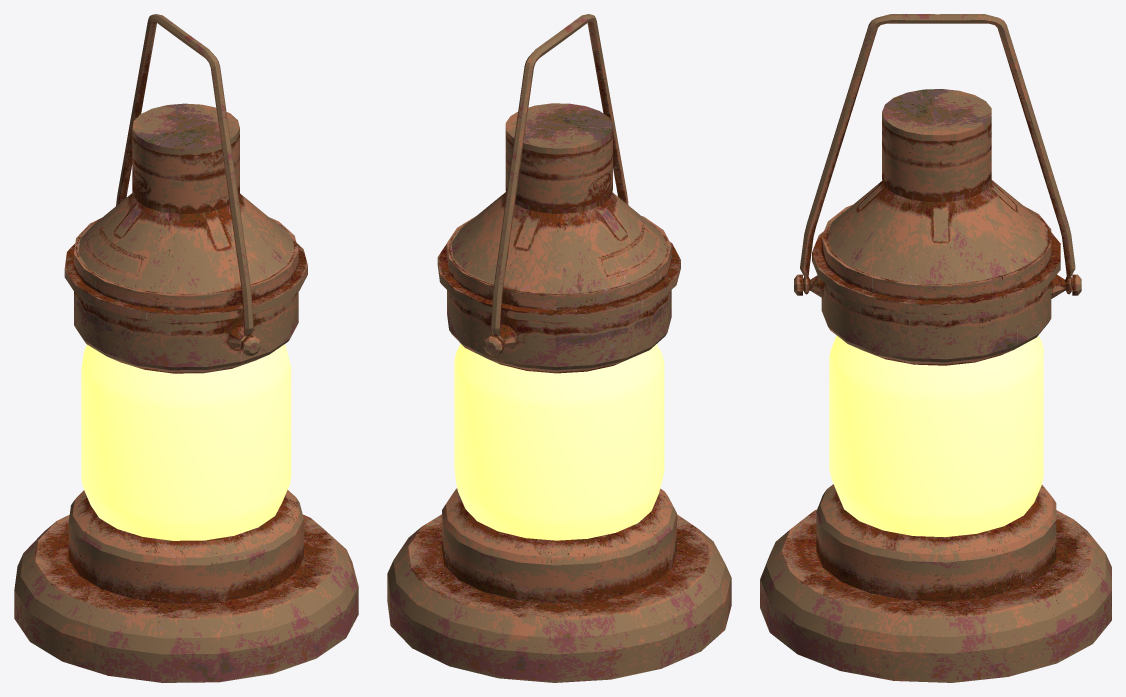
File: Lantern_HeroAsset.fbx
3 renders of one model, left to right at view 1: azimuth 30°, elevation 25°; view 2: azimuth 150°, elevation 25°; view 3: azimuth 270°, elevation 25°, orthographic. The views are drawn at different scales.
Visible parts, largest first — view 1: Lantern_HeroAsset; view 2: Lantern_HeroAsset; view 3: Lantern_HeroAsset.
Boxes of the visible parts, bbox=[...] form: Lantern_HeroAsset: bbox=[14, 14, 358, 682]; Lantern_HeroAsset: bbox=[387, 14, 731, 682]; Lantern_HeroAsset: bbox=[760, 14, 1111, 682].
Bounding box in the file's own units: 16.84 × 31.2 × 16.78.
Materials: 2 (1 with a texture image).
